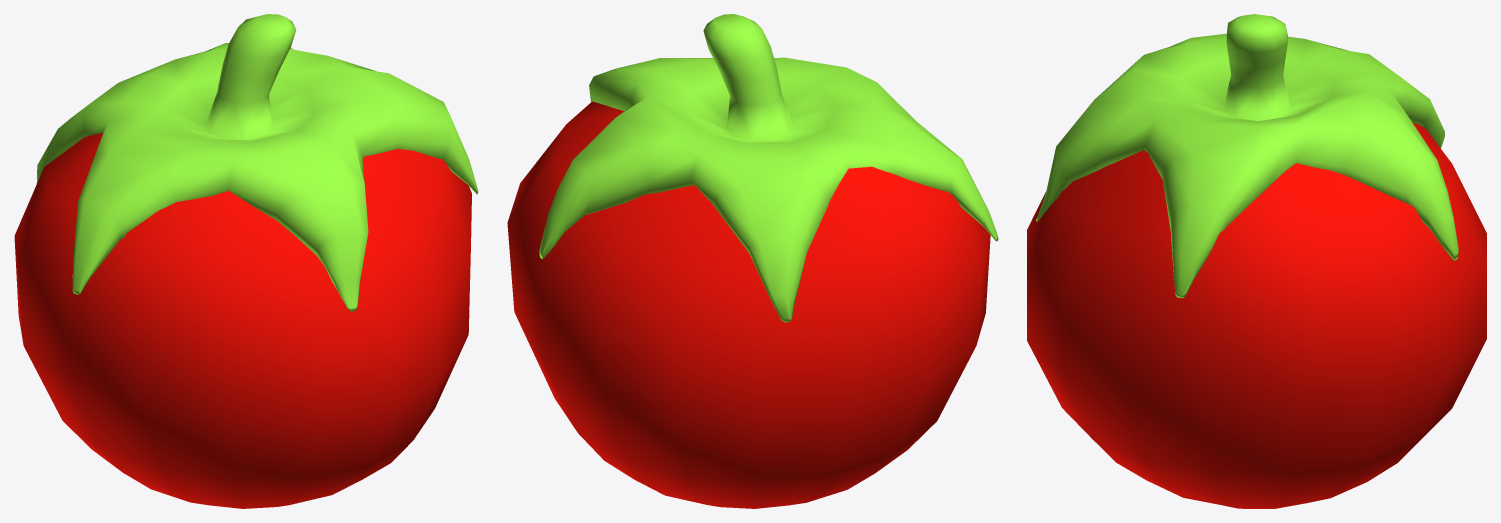
File: SM_Tomato.fbx
The picture shows the model from 3 angles, left to right: view 1: azimuth 30°, elevation 25°; view 2: azimuth 150°, elevation 25°; view 3: azimuth 270°, elevation 25°; orthographic projection. The views are drawn at different scales.
Visible parts, largest first — view 1: SM_Tomato; view 2: SM_Tomato; view 3: SM_Tomato.
Part boxes in pixels (bbox=[...]): SM_Tomato: bbox=[14, 14, 478, 508]; SM_Tomato: bbox=[507, 14, 998, 508]; SM_Tomato: bbox=[1027, 14, 1486, 508].
Bounding box in the file's own units: 87.72 × 92 × 81.23.
